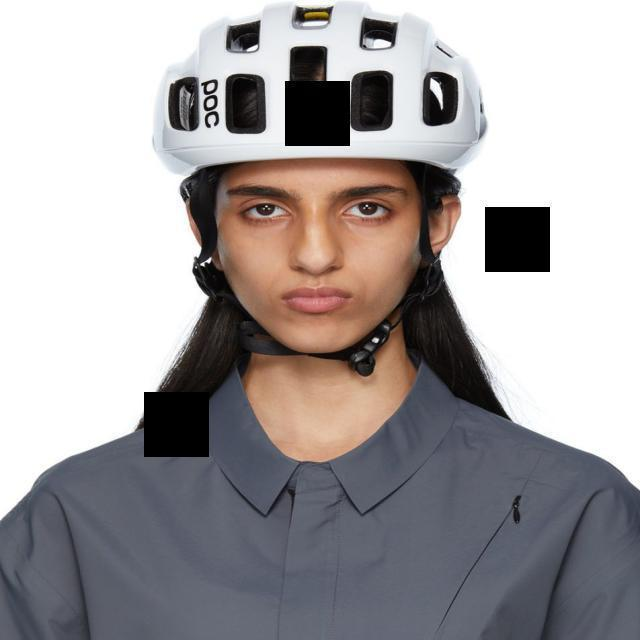helmet: (151, 0, 488, 176)
